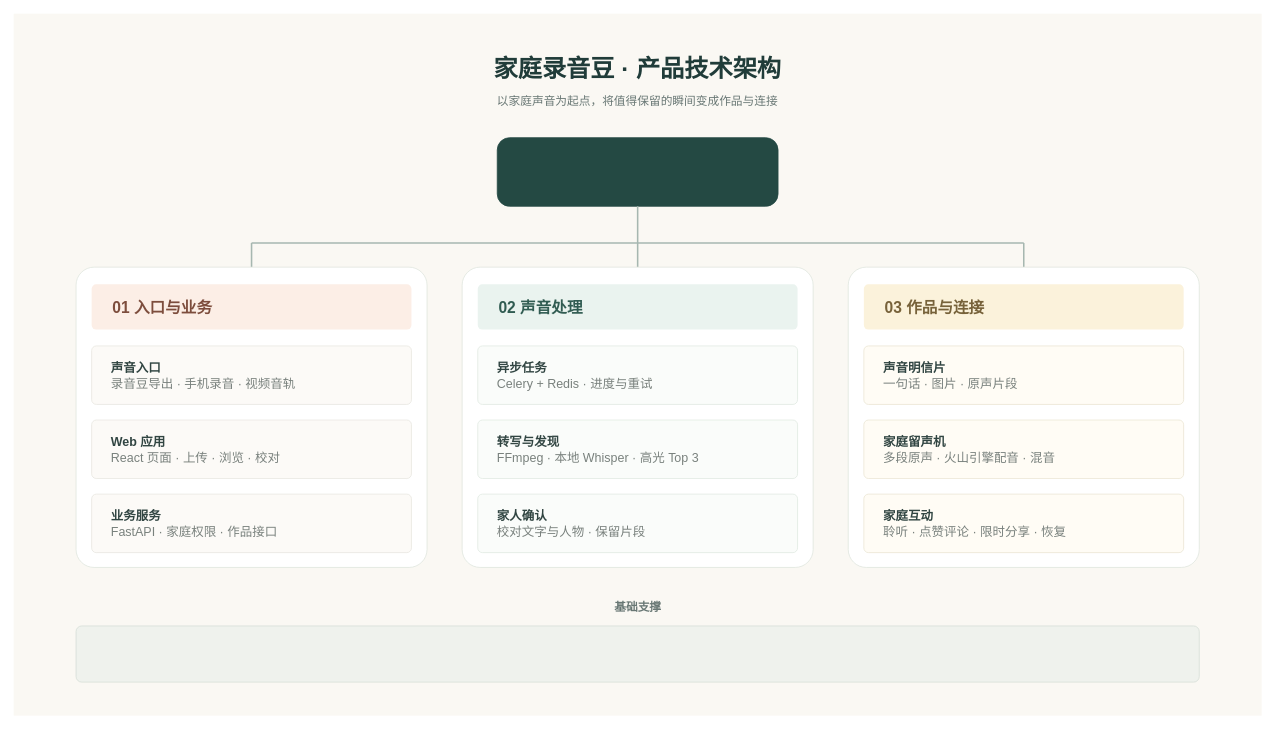
The diagram is 1275 pixels wide and 729 high, and some of its shapes have lost their labels. Each missing label, with the centre of its shape:
"PostgreSQL 作品与家庭数据 · 私有文件存储与签名访问 · 默认私密、原声可追溯、分享可撤回" goes at point 637,653.
"家庭录音豆 声音记录 · 内容创作 · 家庭分享" goes at point 637,171.
